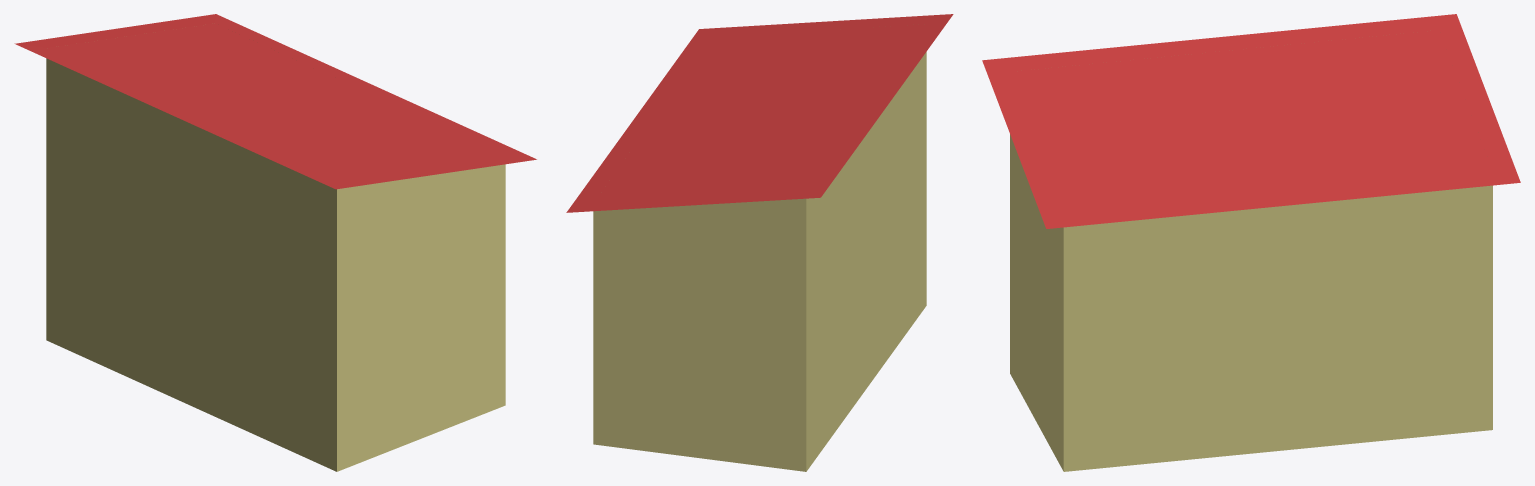
3 renders of one model, left to right at view 1: azimuth 30°, elevation 25°; view 2: azimuth 150°, elevation 25°; view 3: azimuth 270°, elevation 25°, orthographic. The views are drawn at different scales.
Size of the model in its own units: 8.31 by 11.55 by 7.24.
